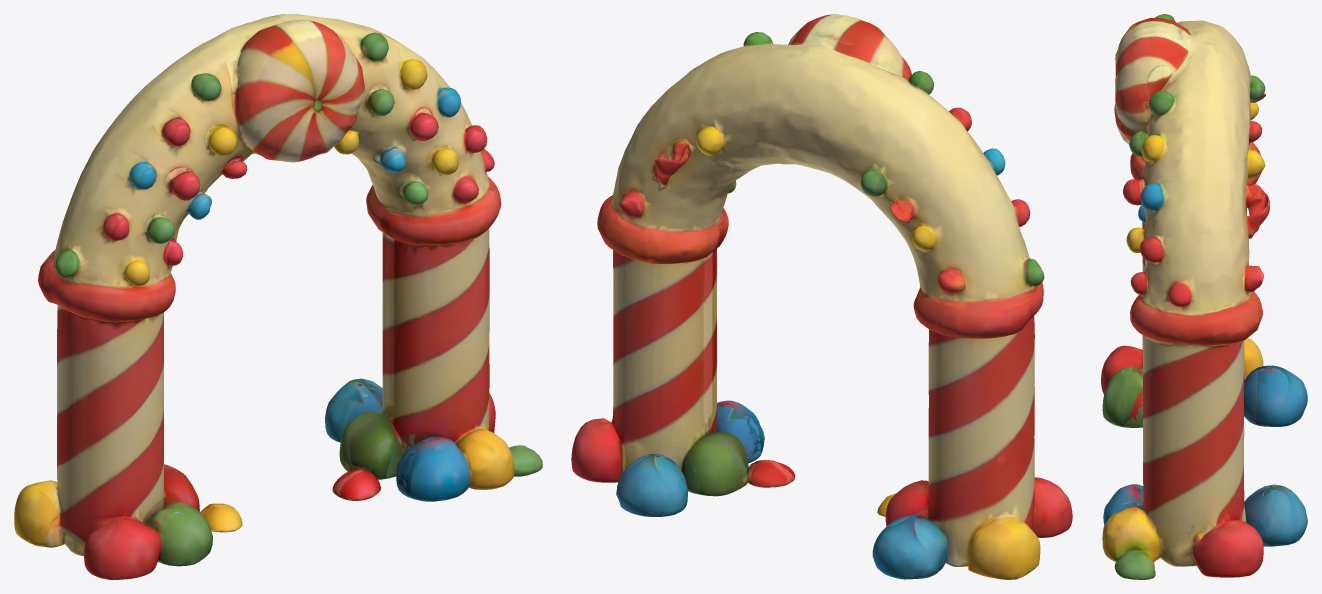
Rendered from candy-archway.glb.
The picture shows the model from 3 angles, left to right: view 1: azimuth 30°, elevation 25°; view 2: azimuth 150°, elevation 25°; view 3: azimuth 270°, elevation 25°; orthographic projection. The views are drawn at different scales.
Bounding box in the file's own units: 2 × 1.99 × 0.8225.
1 material, 1 textured.
